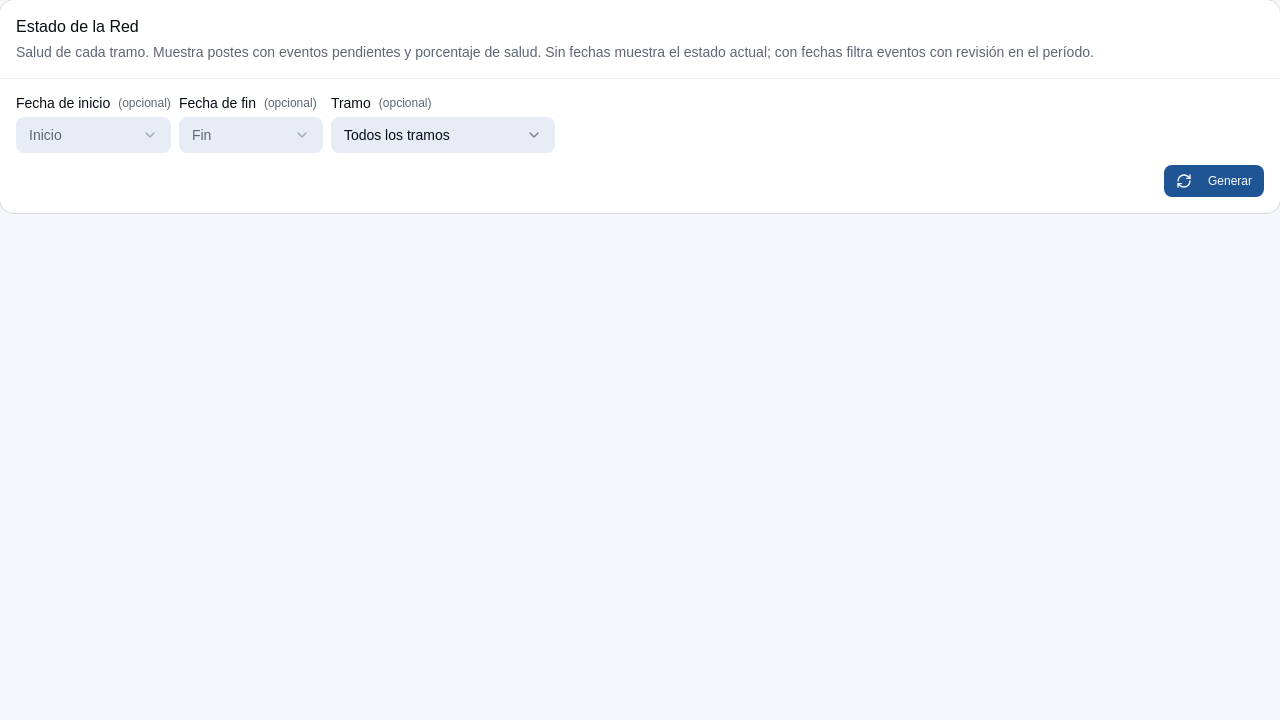
Test case: the tramo is asked of the server › shows the rows it was given without filtering them again in the browser
Click the button "Todos los tramos": [443, 135] box x1=331 y1=117 x2=555 y2=153
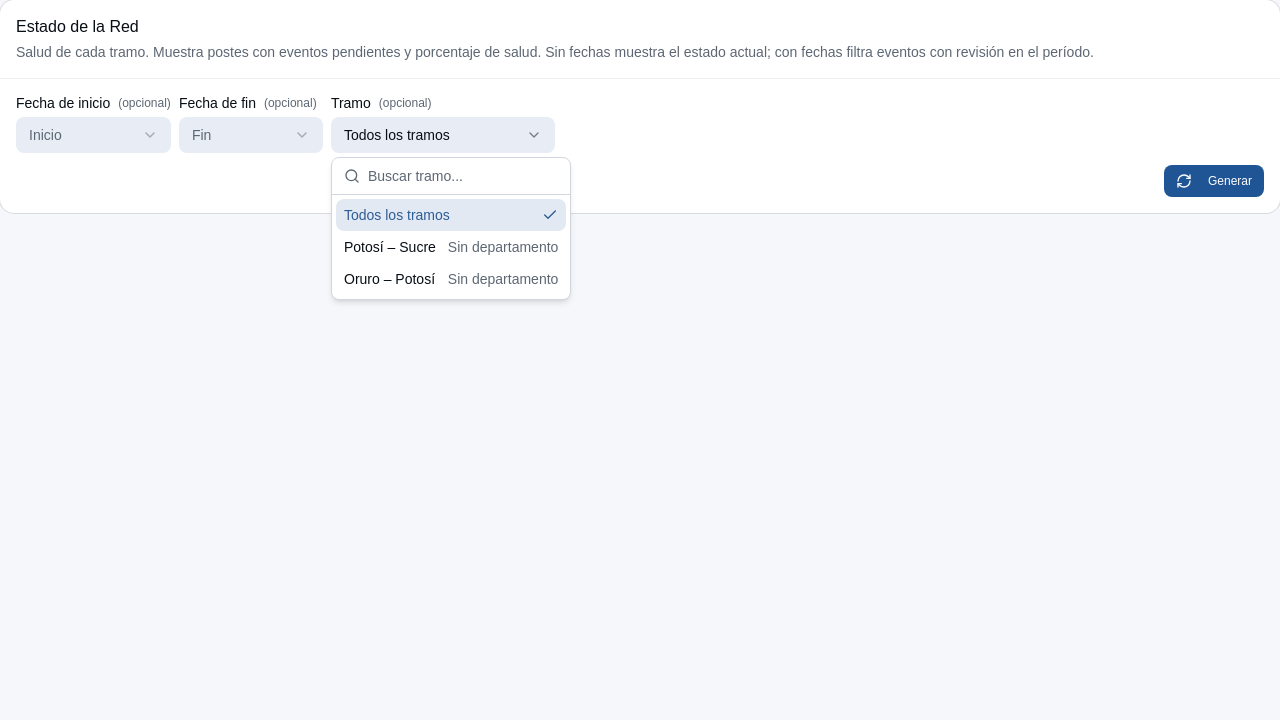
Click the button "Oruro – Potosí Sin departamento": [451, 279] box x1=336 y1=263 x2=566 y2=295
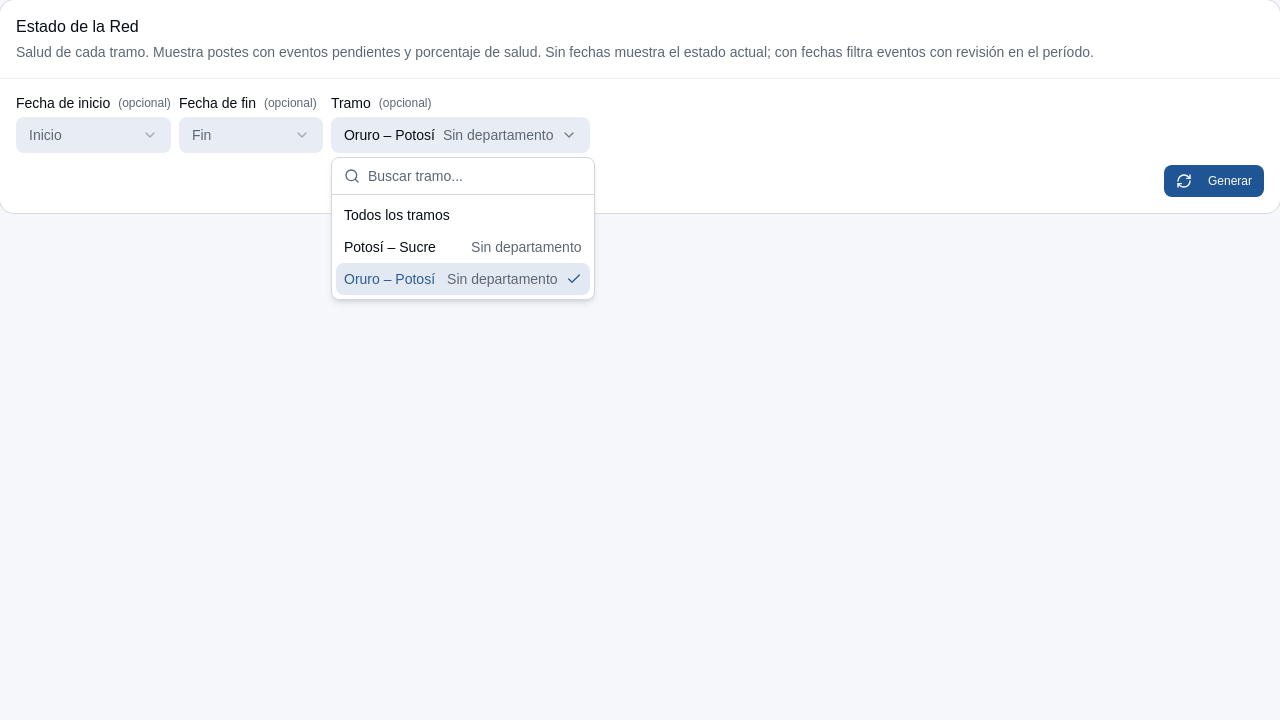
Press Escape
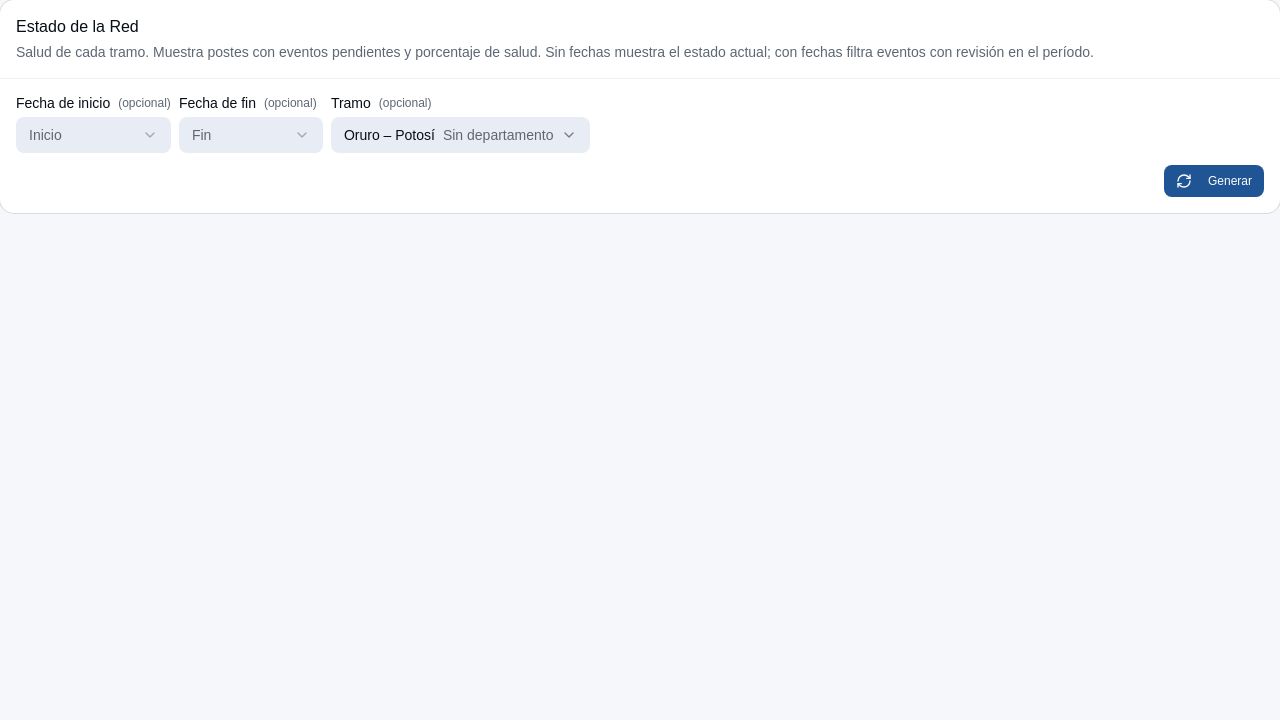
Expected: the field with placeholder "Buscar tramo..." is not shown
Click the button "Generar": [1214, 181] box x1=1164 y1=165 x2=1264 y2=197
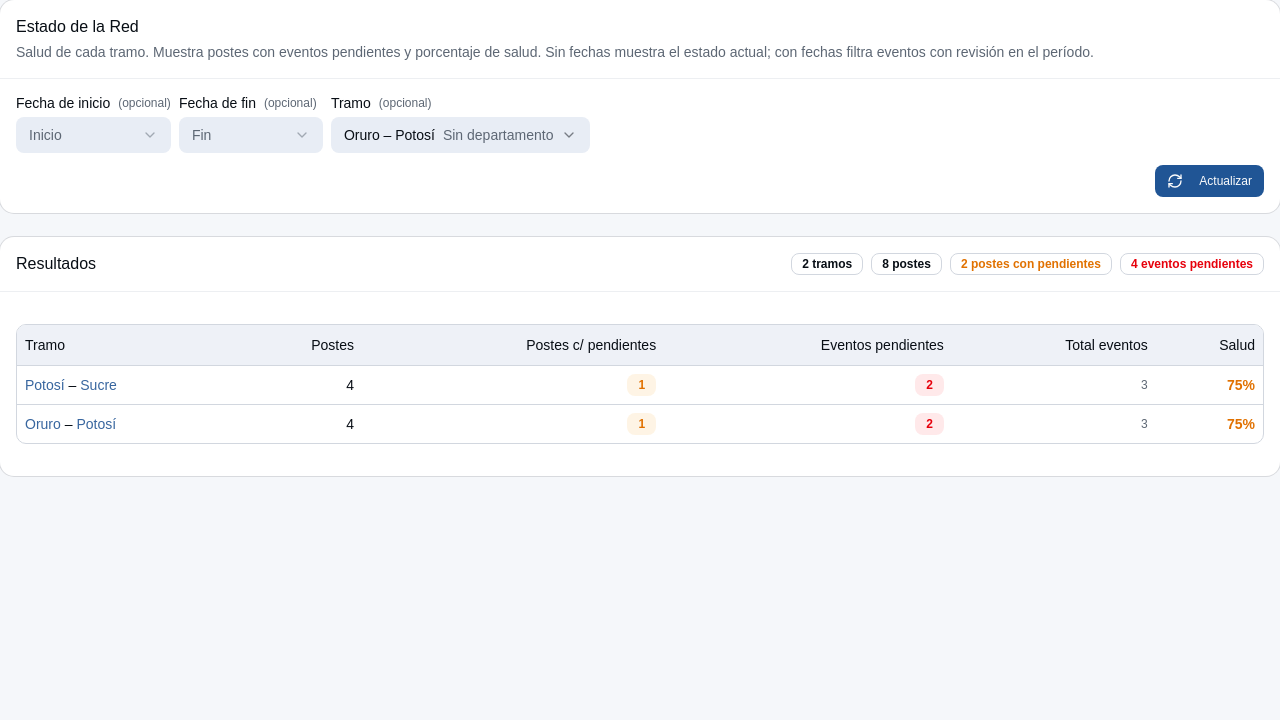
Result: the link "Sucre" is shown at x1=80 y1=376 x2=117 y2=392
Result: the link "Oruro" is shown at x1=25 y1=416 x2=61 y2=432
